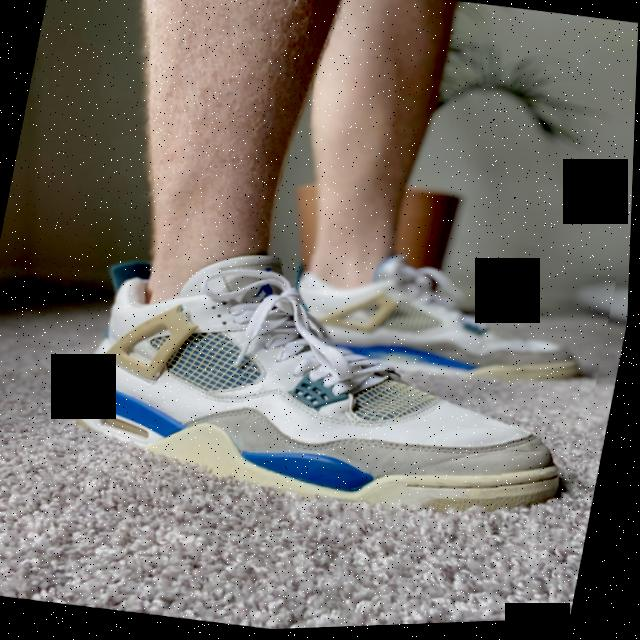shoe: (27, 210, 619, 564), (262, 229, 621, 419)
